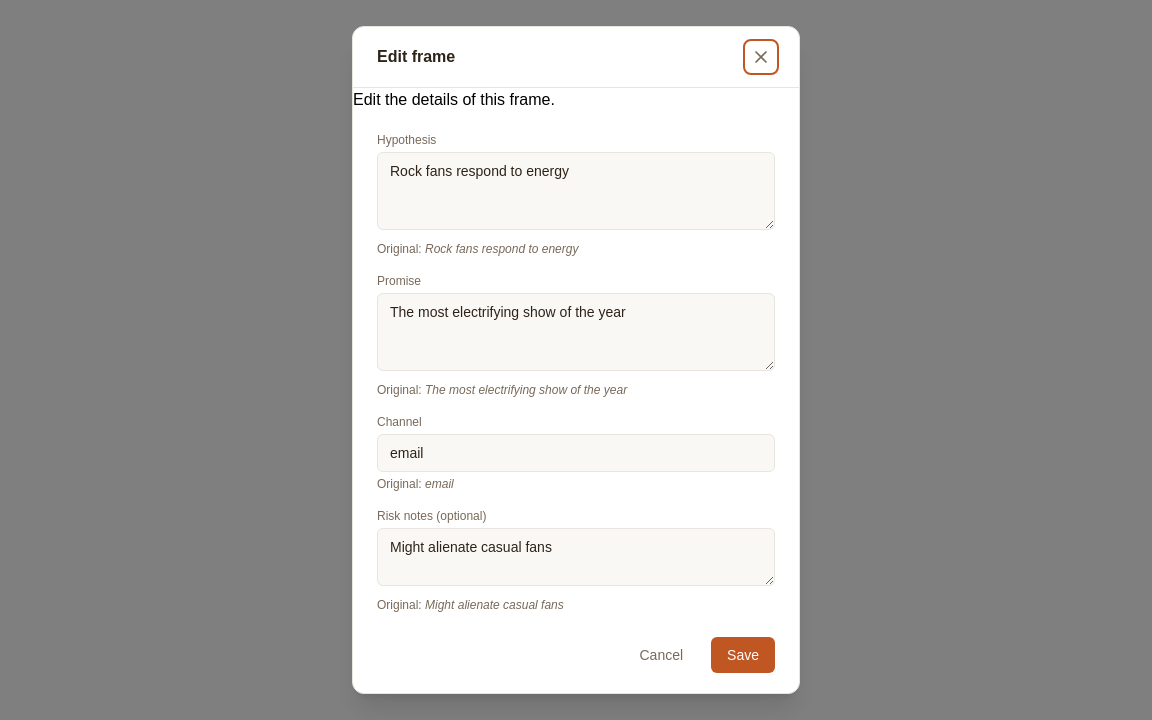
Scenario: FrameEditModal › form validation › shows error when hypothesis is empty on submit
Clear the text box labelled "Hypothesis" at (576, 191), box [377,152,775,230]
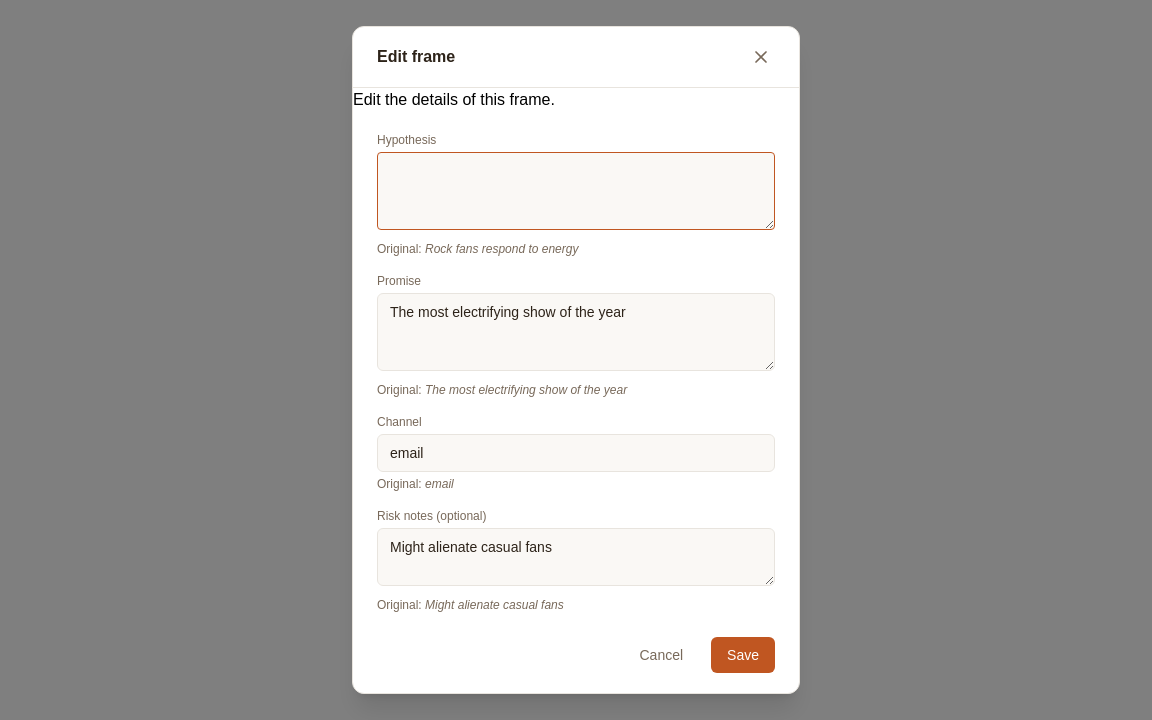
Click the button "Save".
click(743, 655)  # box [711,637,775,673]
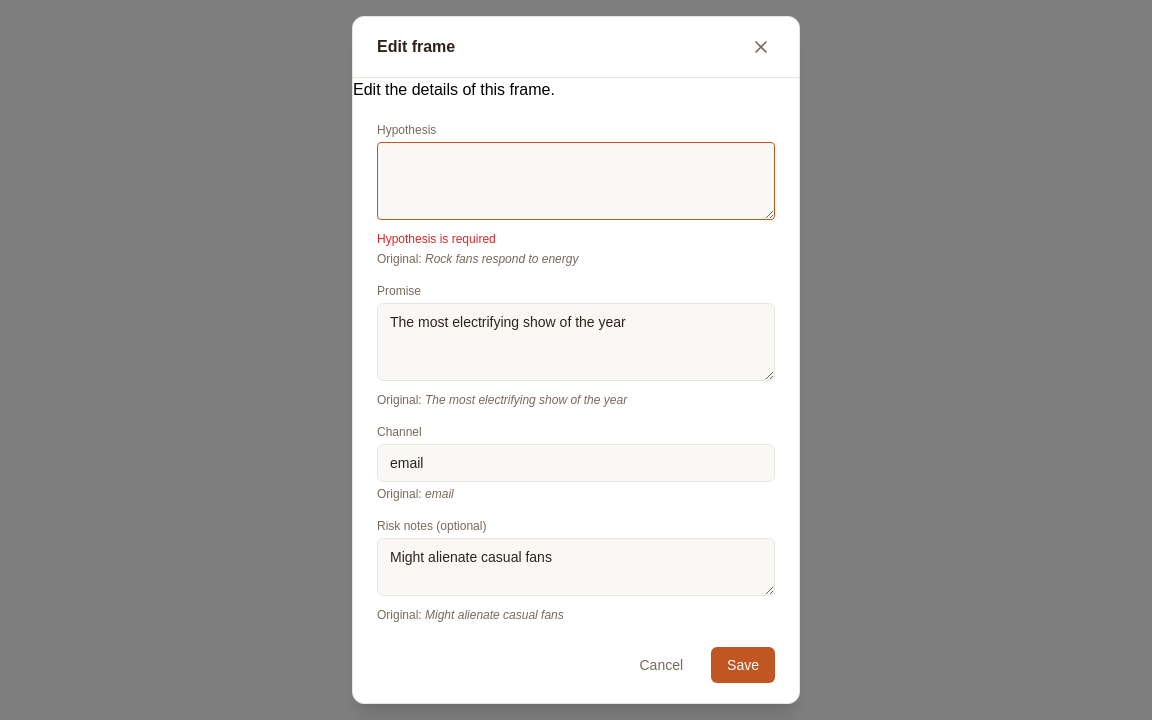
Expected: the message reads "Hypothesis is required", [377,232,496,246]
